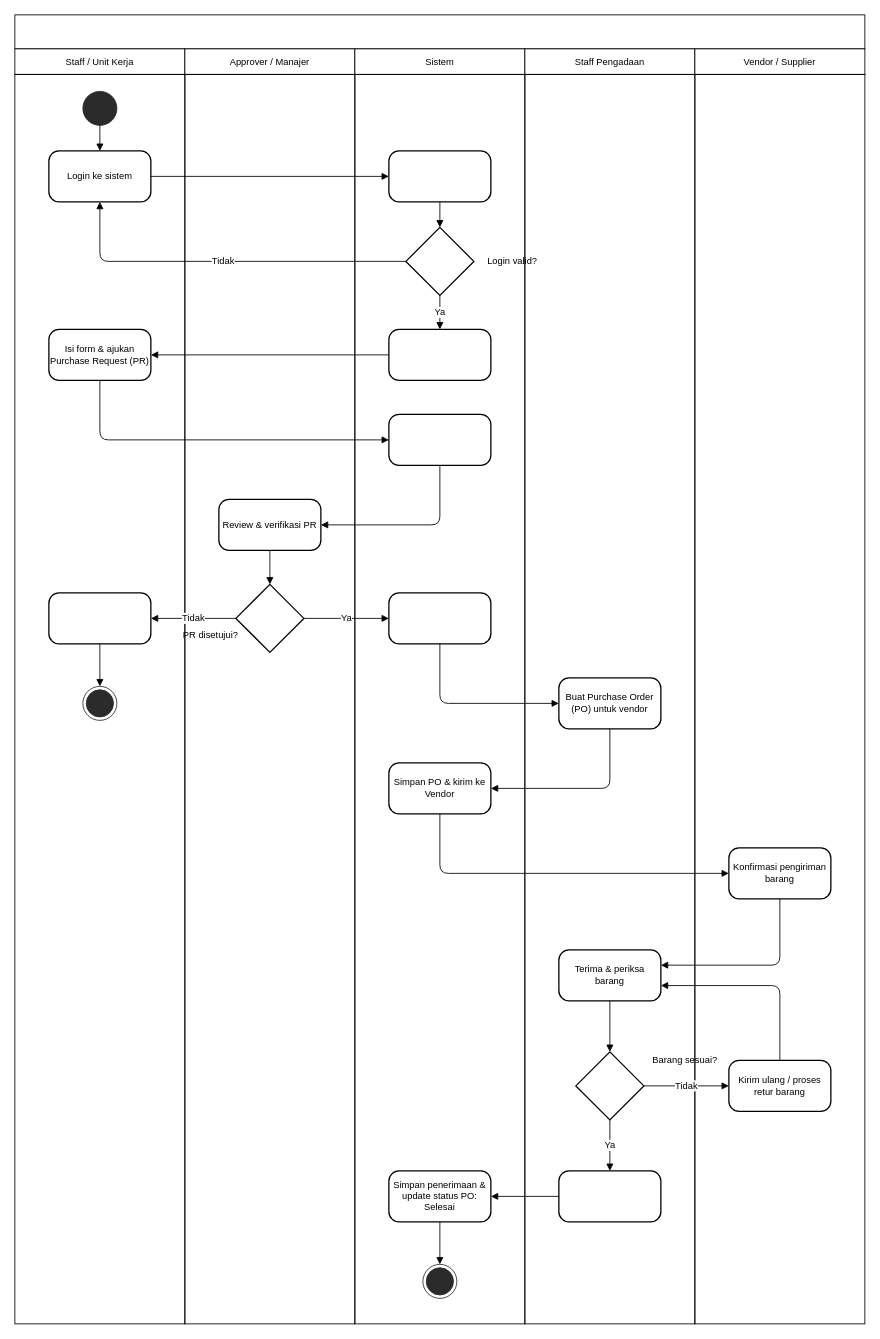
This 880x1339 diagram has some shape labels left out. The shapes that lost their labels are listed below. From the top down, each one's box as (x1, y1, x2, y2) in pixels, then its label:
(14, 14, 865, 49): Activity Diagram - Proses Pengadaan Barang (SiPBarang)
(388, 150, 491, 202): Validasi username & password
(388, 328, 491, 381): Tampilkan dashboard sesuai peran
(388, 413, 491, 466): Simpan PR (Menunggu Persetujuan) & kirim notifikasi
(48, 592, 151, 644): Terima notifikasi PR ditolak
(388, 592, 491, 644): Update status PR: Disetujui & notifikasi Staff Pengadaan
(558, 1170, 661, 1222): Catat penerimaan barang
